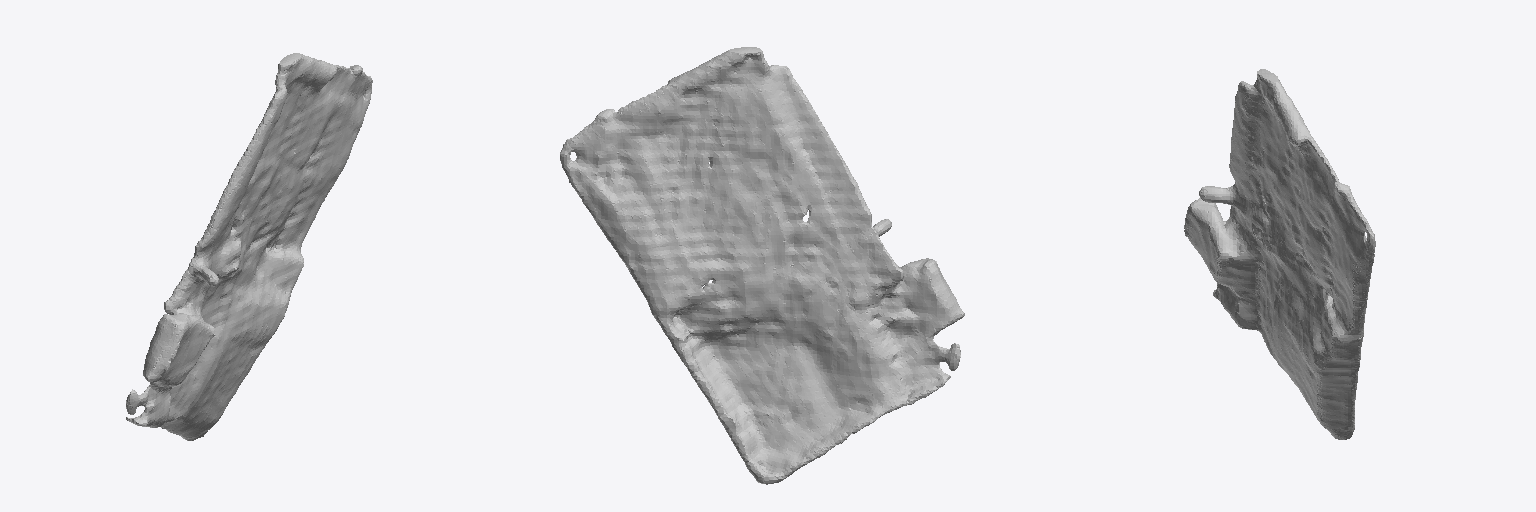
The model's file is replicate-prediction-gm6rffr32srgp0cf8ywtzh17gm-2.obj.
The picture shows the model from 3 angles: view 1: azimuth 30°, elevation 25°; view 2: azimuth 150°, elevation 25°; view 3: azimuth 270°, elevation 25°; orthographic projection.
Size of the model in its own units: 1.71 by 1.97 by 0.8761.